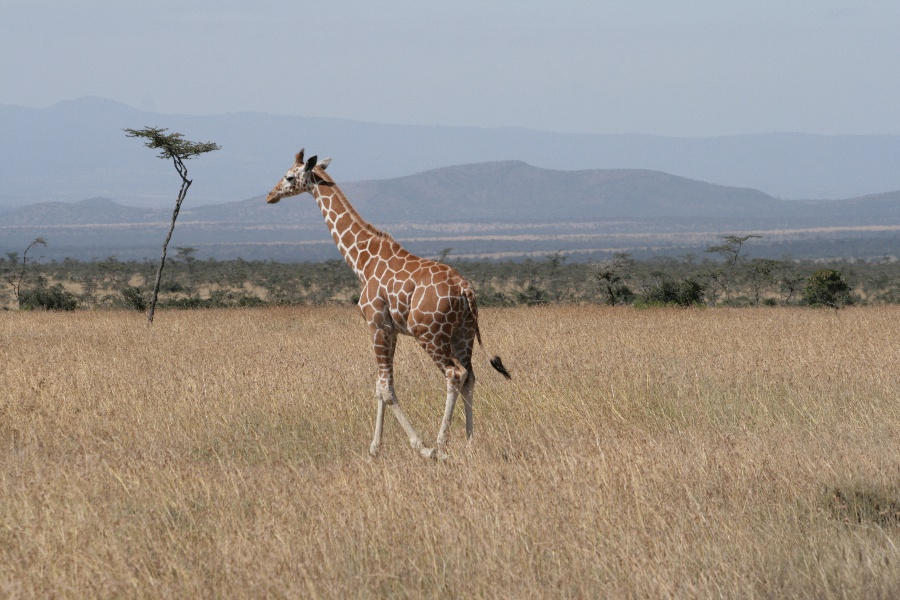giraffe: (260, 143, 491, 459)
